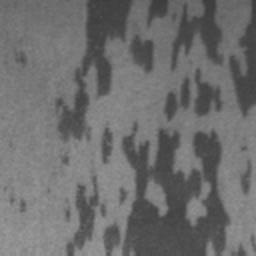Red iron sheet: (56, 0, 256, 140), (102, 68, 246, 256), (66, 185, 105, 256), (242, 165, 251, 193), (15, 52, 27, 66)
